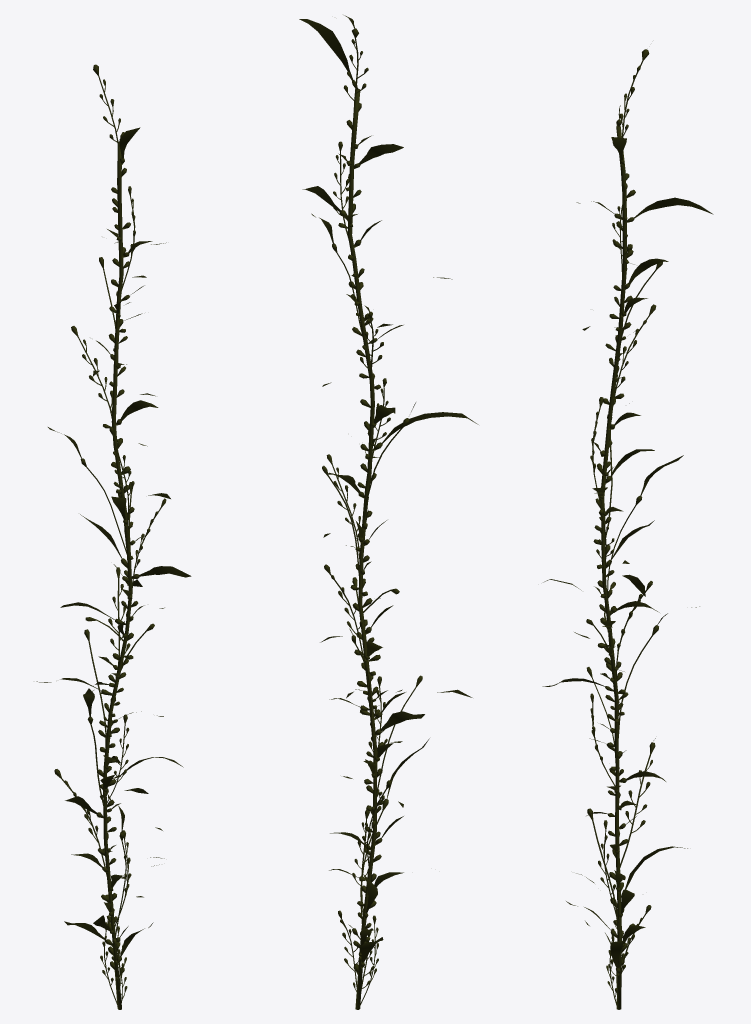
Rendered from AquaticPlants.fbx.
3 views of the same model, side by side, from view 1: azimuth 30°, elevation 25°; view 2: azimuth 150°, elevation 25°; view 3: azimuth 270°, elevation 25° (orthographic). The views are drawn at different scales.
Visible parts, largest first — view 1: SM_ocean_Kelp_01_LOD0; view 2: SM_ocean_Kelp_01_LOD0; view 3: SM_ocean_Kelp_01_LOD0.
Part boxes in pixels (x1=…): SM_ocean_Kelp_01_LOD0: x1=36, y1=64, x2=191, y2=1009; SM_ocean_Kelp_01_LOD0: x1=299, y1=15, x2=478, y2=1009; SM_ocean_Kelp_01_LOD0: x1=542, y1=49, x2=713, y2=1009.
Size of what is drawn, in the model's own units: 308 by 302 by 1467.
